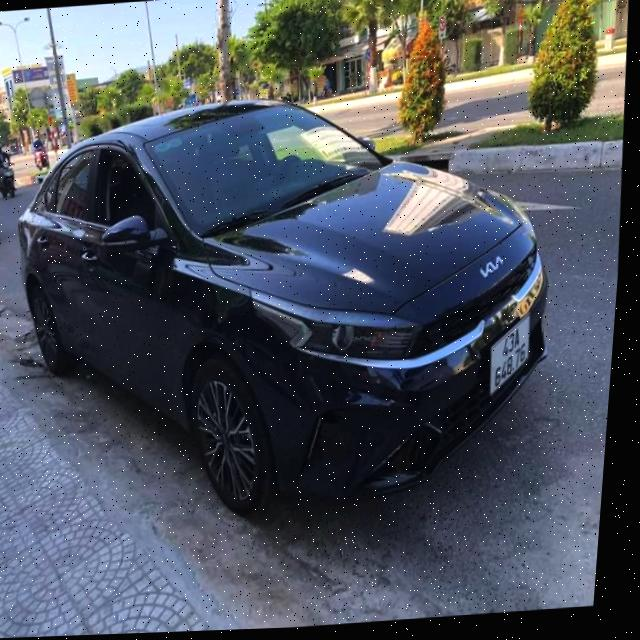car: (0, 81, 582, 545)
motorcycle: (0, 187, 2, 246)
plate: (480, 319, 536, 395)
